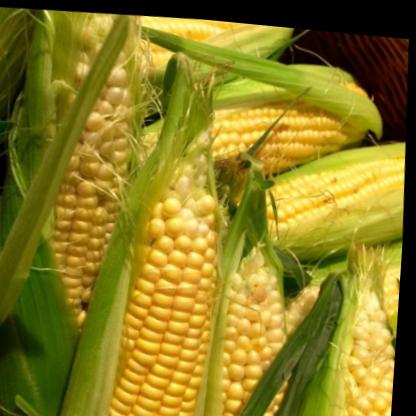corn: (29, 26, 155, 351), (82, 171, 240, 416), (163, 53, 373, 189), (248, 124, 411, 259), (209, 222, 297, 416), (323, 269, 403, 416)
